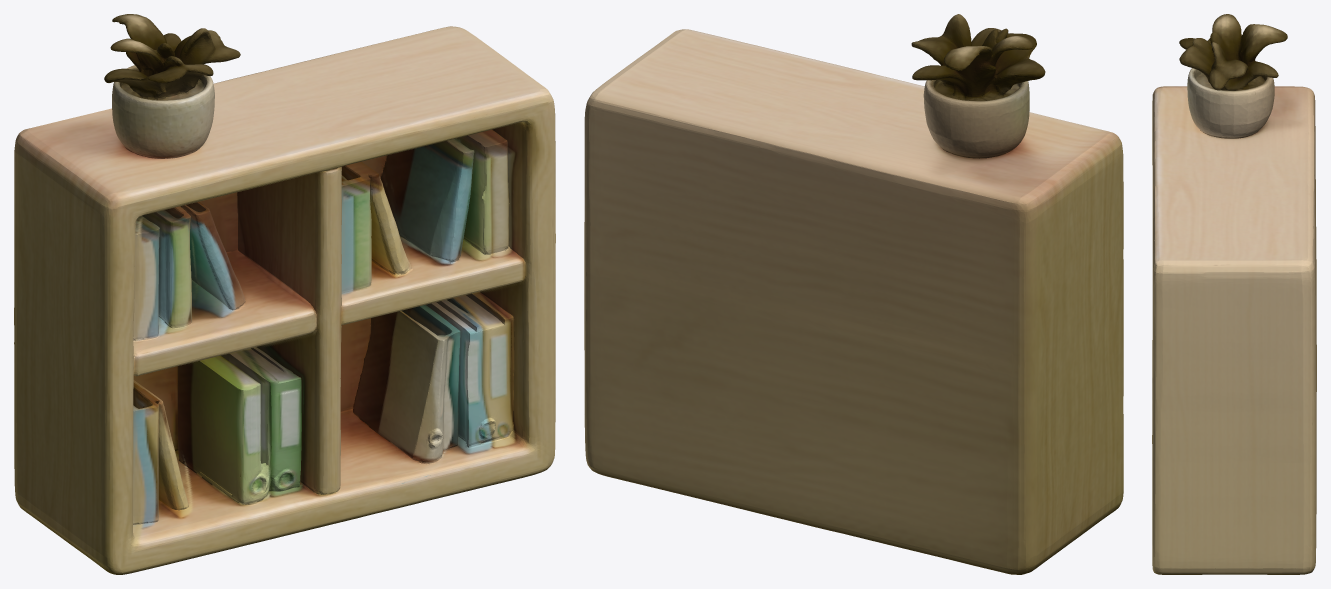
The model's file is low_bookshelf.glb.
3 renders of one model, left to right at view 1: azimuth 30°, elevation 25°; view 2: azimuth 150°, elevation 25°; view 3: azimuth 270°, elevation 25°, orthographic. The views are drawn at different scales.
Visible parts, largest first — view 1: geometry_0; view 2: geometry_0; view 3: geometry_0.
Part boxes in pixels (x1,y1,x2,y2): geometry_0: [14, 14, 555, 574]; geometry_0: [584, 14, 1123, 574]; geometry_0: [1152, 14, 1316, 574].
Bounding box in the file's own units: 0.9538 × 0.9973 × 0.3631.
Materials: 1 (1 with a texture image).
